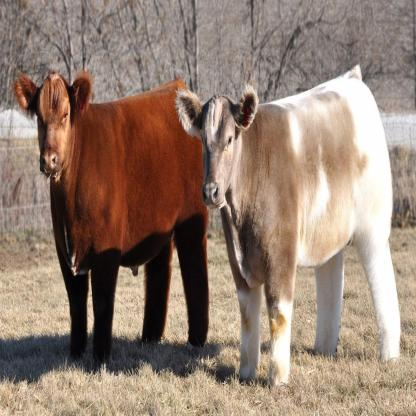cow: (205, 101, 400, 384), (15, 70, 208, 352)
